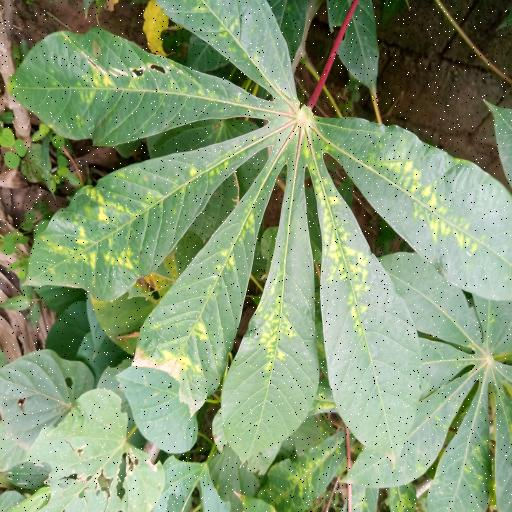Cassava_Mosaic: (11, 0, 512, 472)
